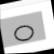no answer: (10, 21, 37, 44)
